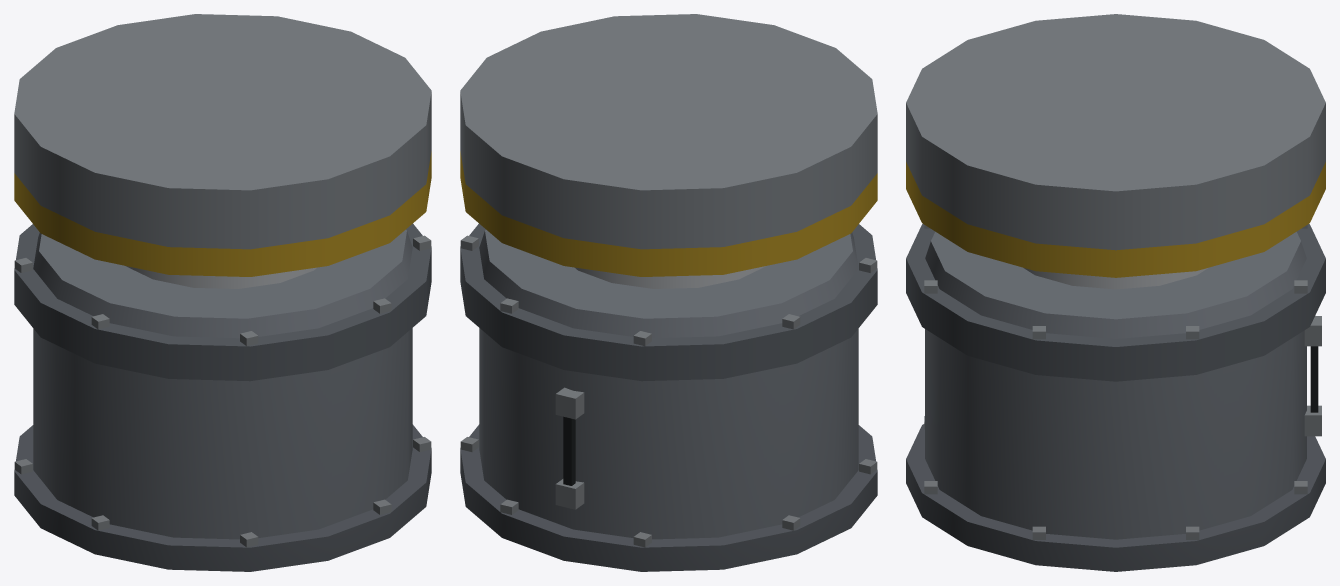
Rendered from machine.piston.grey.glb.
3 views of the same model, side by side, from view 1: azimuth 30°, elevation 25°; view 2: azimuth 150°, elevation 25°; view 3: azimuth 270°, elevation 25° (orthographic).
Parts seen in each view (by area): view 1: machine_piston_grey; view 2: machine_piston_grey; view 3: machine_piston_grey.
Boxes of the visible parts, bbox=[...] form: machine_piston_grey: bbox=[14, 14, 431, 571]; machine_piston_grey: bbox=[460, 14, 877, 571]; machine_piston_grey: bbox=[906, 14, 1325, 571].
Size of what is drawn, in the model's own units: 2.2 by 2.2 by 2.2.
